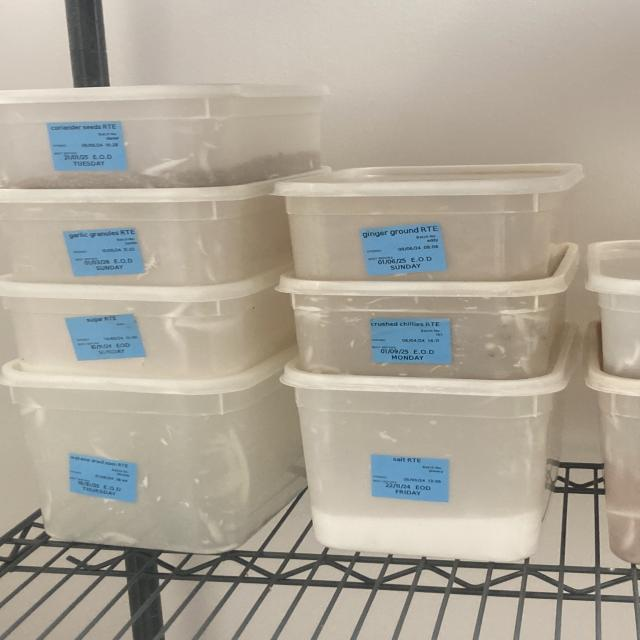product-labels: (360, 222, 447, 276), (63, 227, 145, 277), (46, 121, 127, 171), (369, 455, 454, 502), (65, 312, 146, 361), (64, 454, 142, 503), (370, 318, 454, 363)
